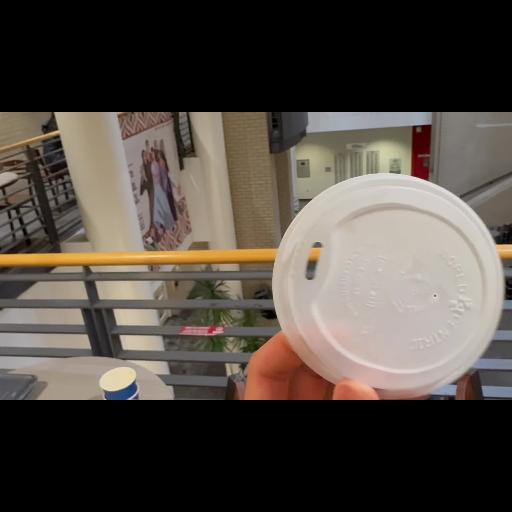lp_cup_lids: (268, 172, 508, 400)
